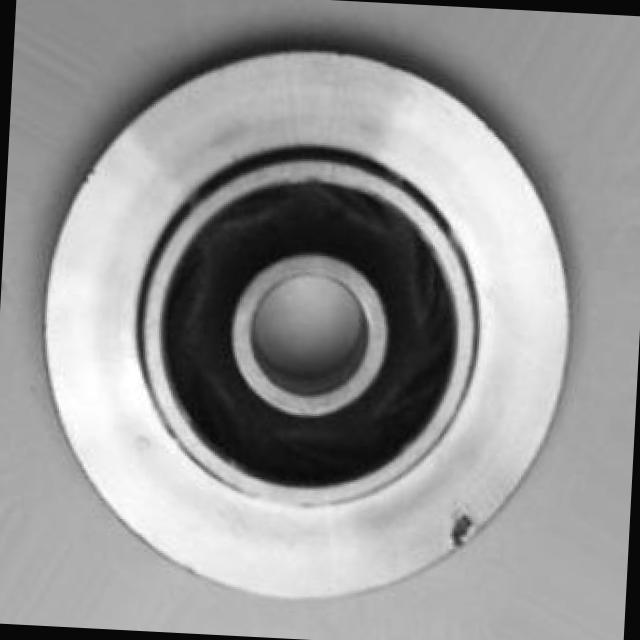Defect: (433, 501, 488, 553)
